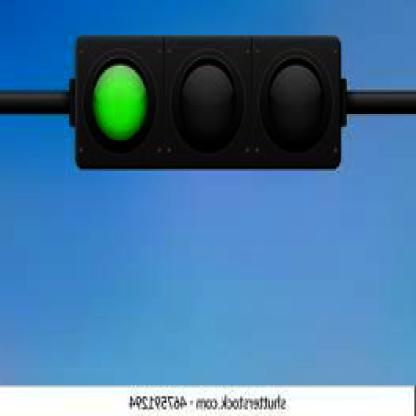traffic-light: (72, 37, 339, 164)
